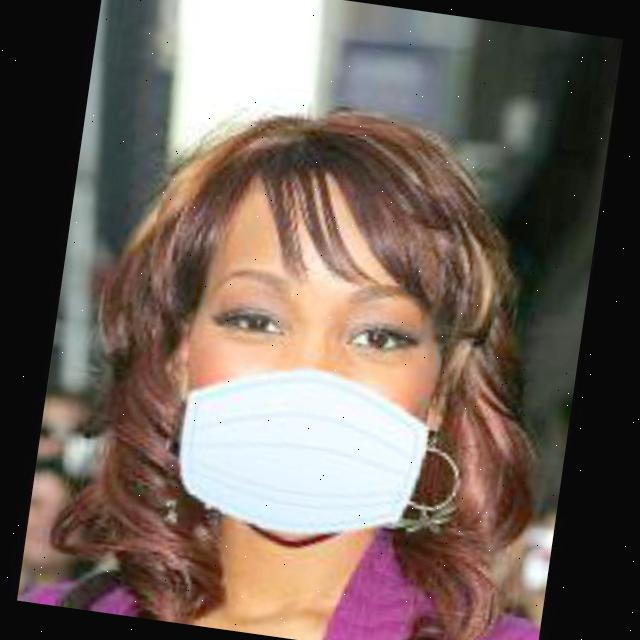suspicion: (62, 82, 513, 578)
